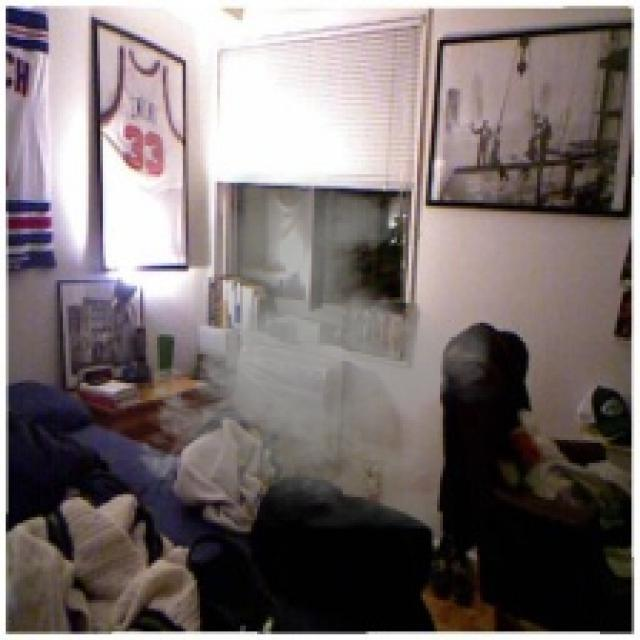Smoke: (126, 172, 506, 528)
